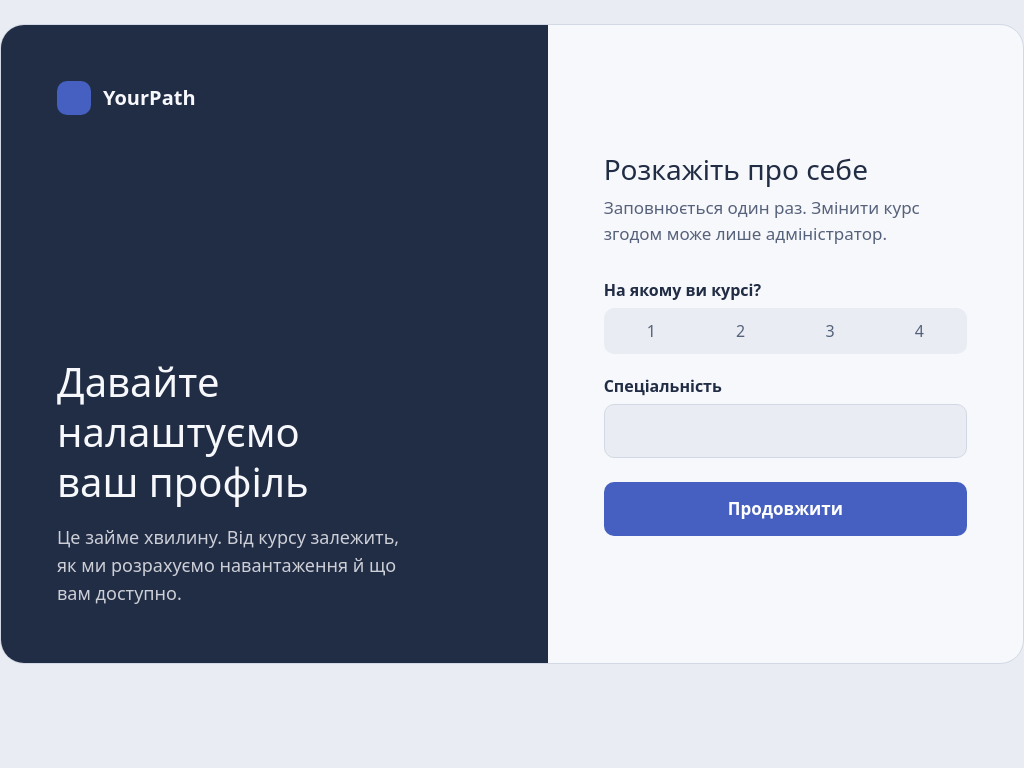
Test case: OnboardingPage › для 1 курсу показує, що план формує деканат
Click the button "1": [651, 331] box [607,311,696,351]
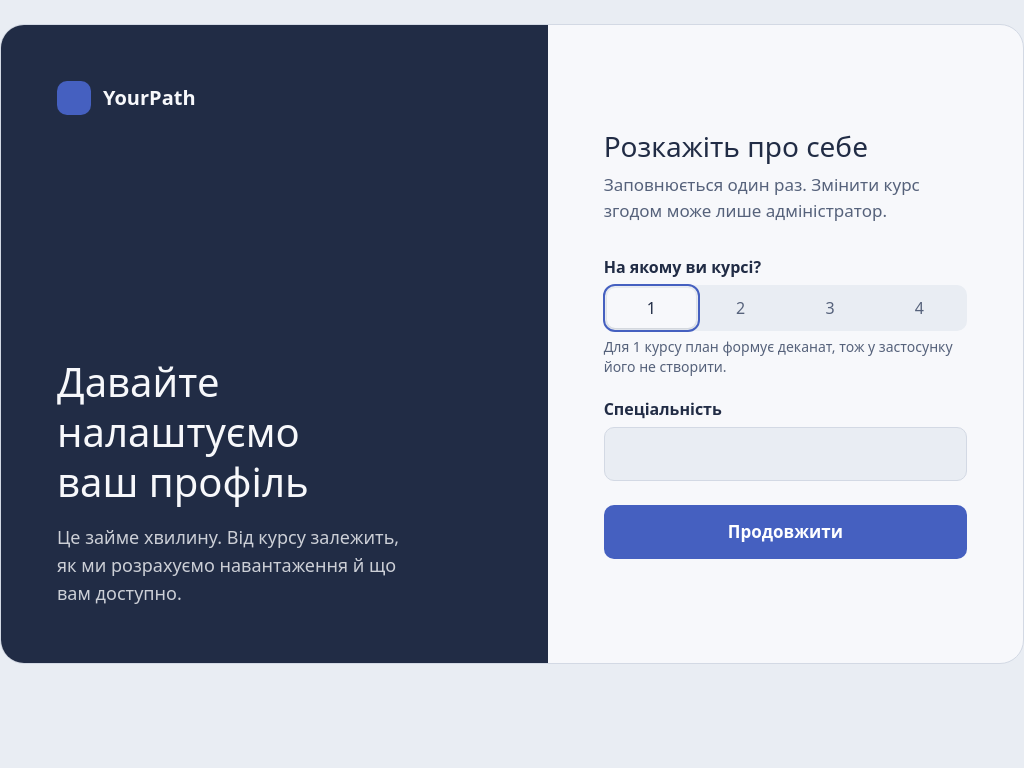
Result: the text "Для 1 курсу план формує деканат, тож у застосунку його не створити." is shown at [604,337,967,377]
